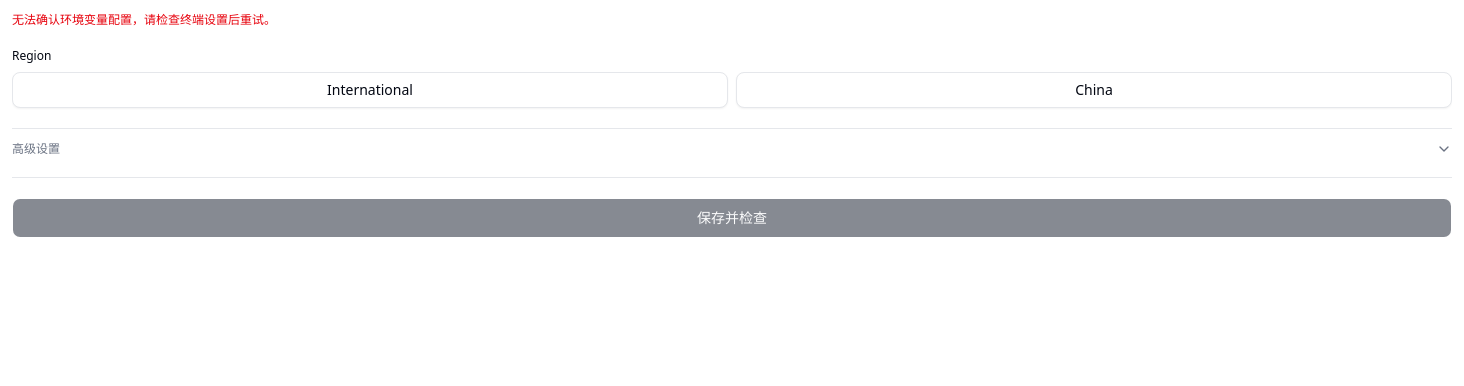
Provider Config Environment Sources › keeps the China key source unknown when its region was not confirmed
The width and height of the screenshot is (1464, 386).
Check: the message "无法确认环境变量配置，请检查终端设置后重试。" is shown, box [12,12,276,28]
Click the radio button labelled "China" at [1094, 90], box [736,72,1452,108]
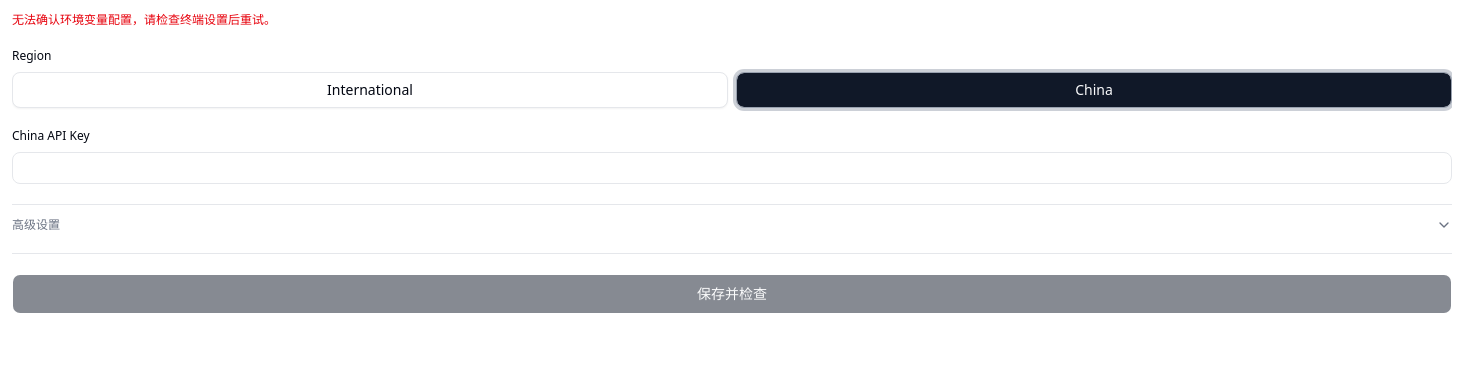
Check: the button "保存并检查" is disabled, box [12,274,1452,314]
Check: the password field labelled "China API Key" is empty, box [12,152,1452,184]
Click the button "高级设置" at [36, 224], box [12,217,1452,233]
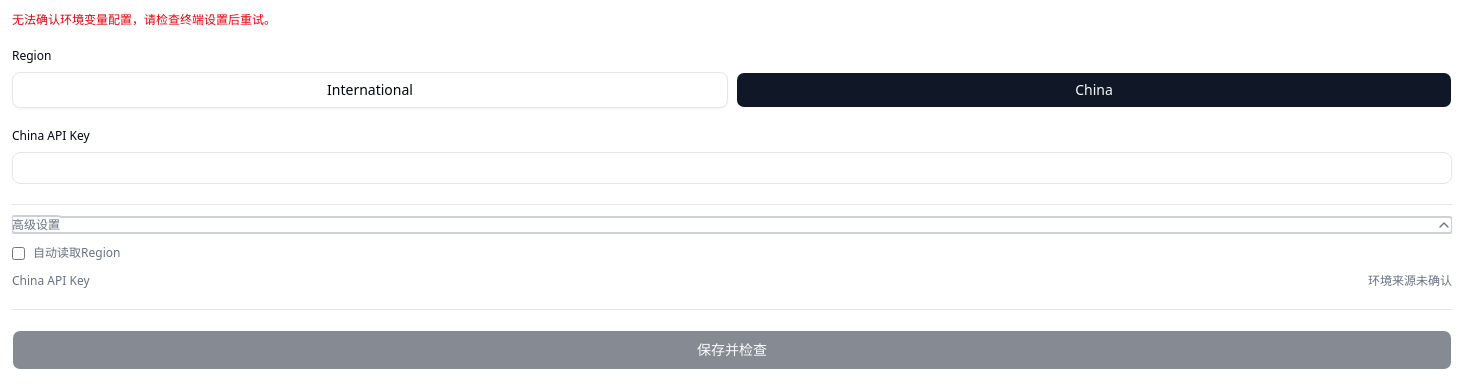
Check: the text "环境来源未确认" is shown, box [1368,273,1452,289]
